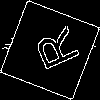R: (25, 25, 81, 77)
